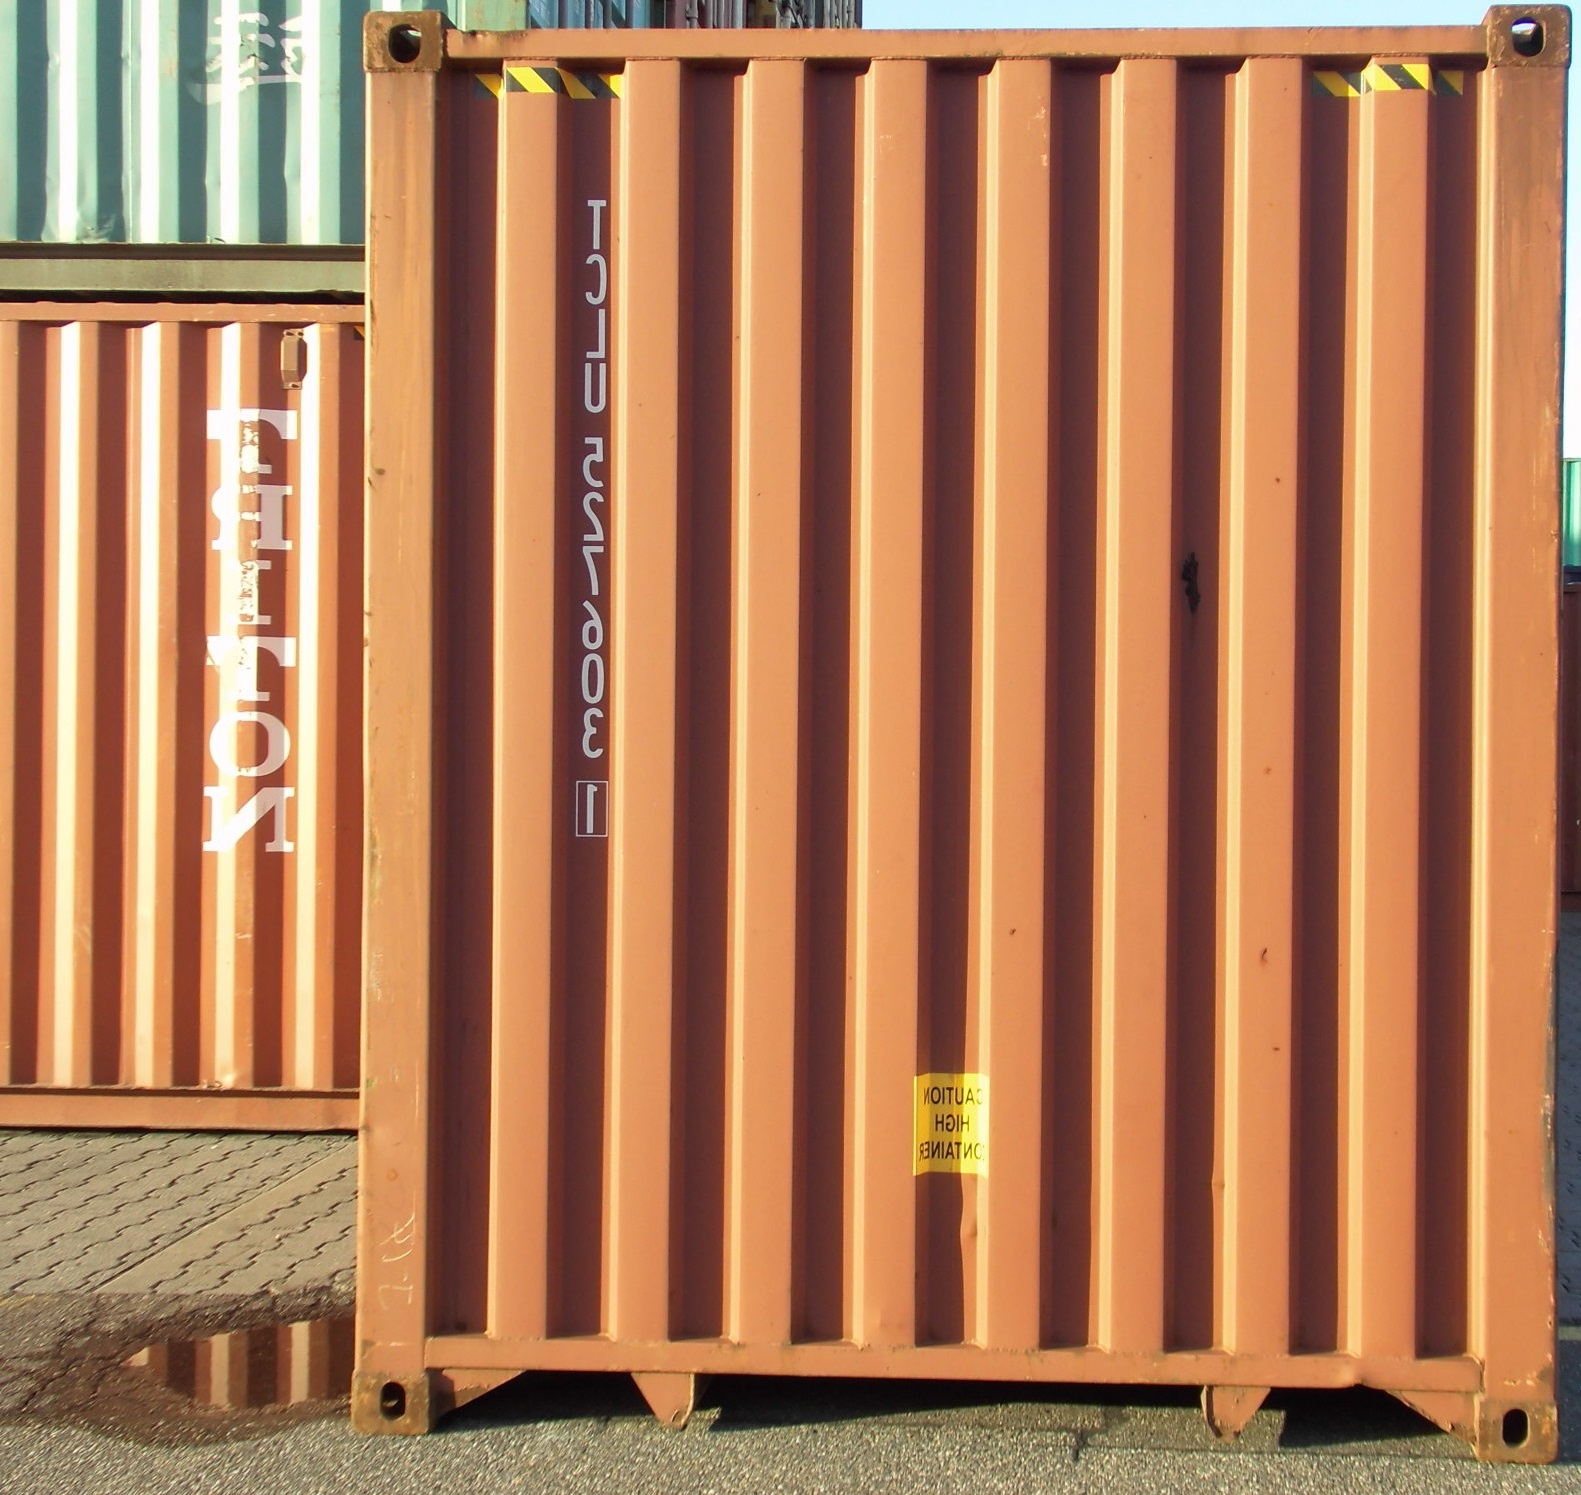container_no_door: (325, 8, 1563, 1415), (15, 308, 354, 1130)
